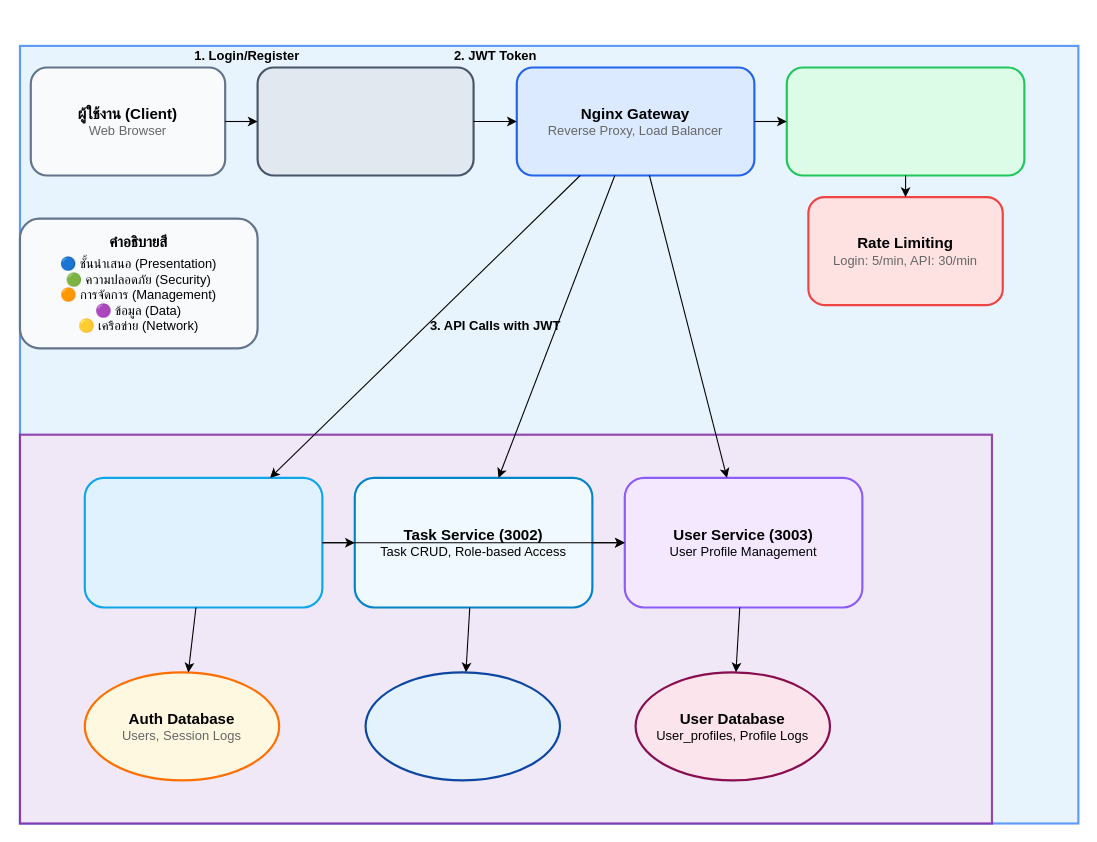
Image size: 1097x842. Some labels were removed from this diagram. Here are the shapes that lost their labels. From the top down, the box of each, then its label:
(256, 66, 474, 176): Frontend (SPA) index.html, logs.html
(785, 66, 1025, 176): TLS/SSL Termination HTTPS → HTTP
(83, 476, 323, 608): Auth Service (3001) Login/Register, JWT Token
(364, 671, 561, 781): Task Database Tasks, Task Logs
